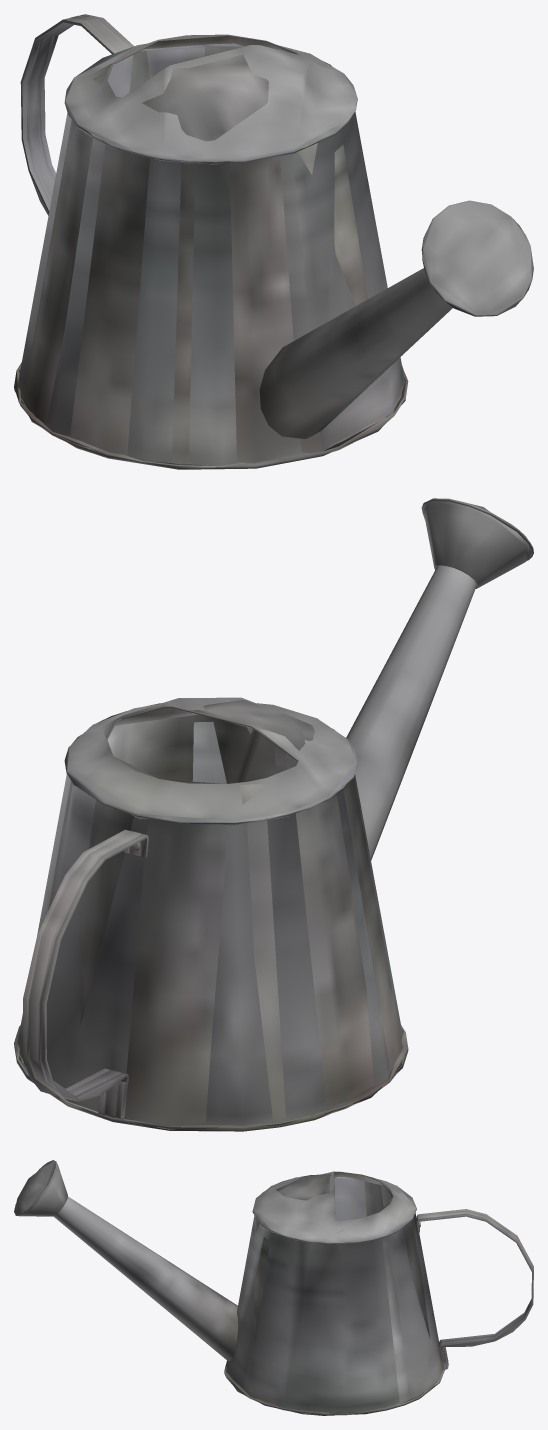
Rendered from watering-can-metal-01.glb.
3 views of the same model, one above another, from view 1: azimuth 30°, elevation 25°; view 2: azimuth 150°, elevation 25°; view 3: azimuth 270°, elevation 25° (orthographic). The views are drawn at different scales.
Parts seen in each view (by area): view 1: watering_can_metal_01; view 2: watering_can_metal_01; view 3: watering_can_metal_01.
Part boxes in pixels (x1,y1,x2,y2): watering_can_metal_01: (14, 14, 533, 469); watering_can_metal_01: (14, 498, 533, 1131); watering_can_metal_01: (14, 1160, 533, 1415).
Bounding box in the file's own units: 0.1905 × 0.1964 × 0.4506.
1 material, 1 textured.
